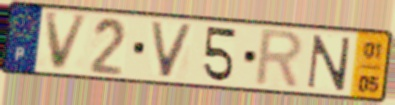2: (87, 16, 130, 78)
5: (201, 24, 237, 84)
N: (304, 33, 354, 93)
R: (251, 27, 306, 92)
V: (42, 11, 92, 73), (147, 19, 197, 80)
